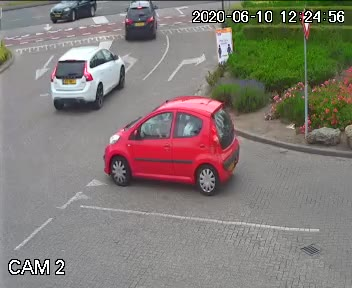car: (94, 103, 253, 193), (43, 38, 121, 105), (121, 0, 157, 44), (44, 0, 107, 25)
